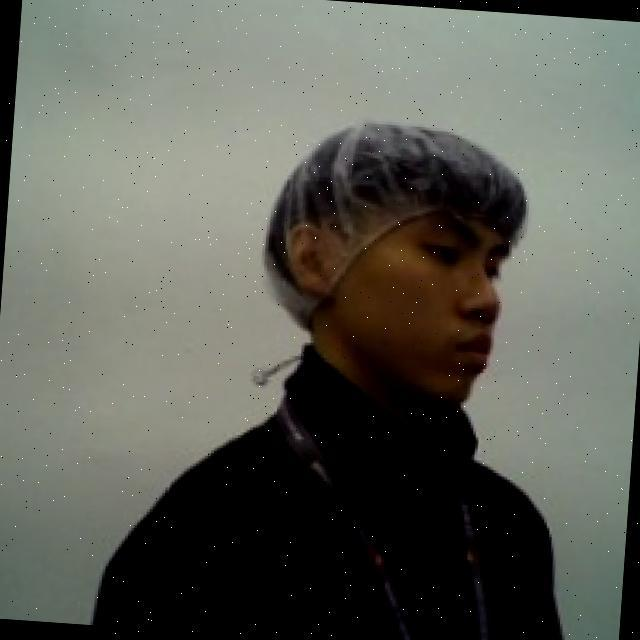gloves: (255, 102, 536, 347)
no_hairnet: (277, 215, 508, 415)
